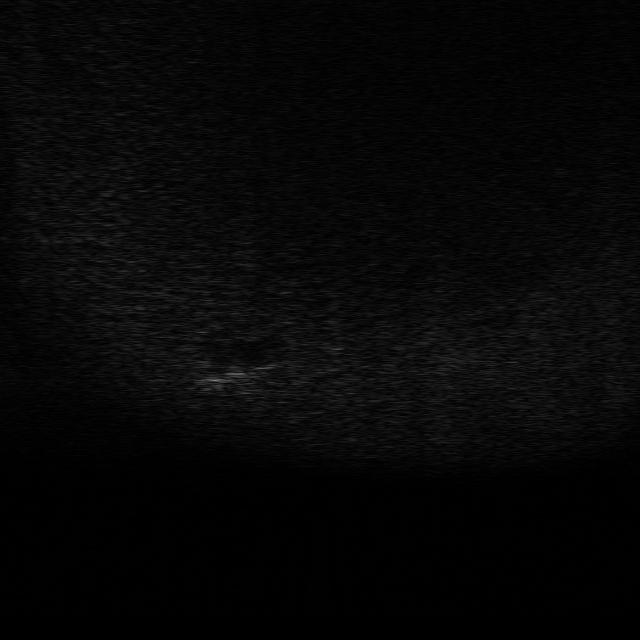plane: (186, 354, 288, 395)
